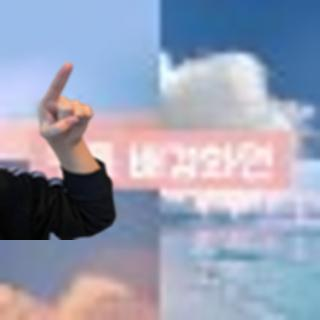IRRITATED: (32, 61, 94, 148)
